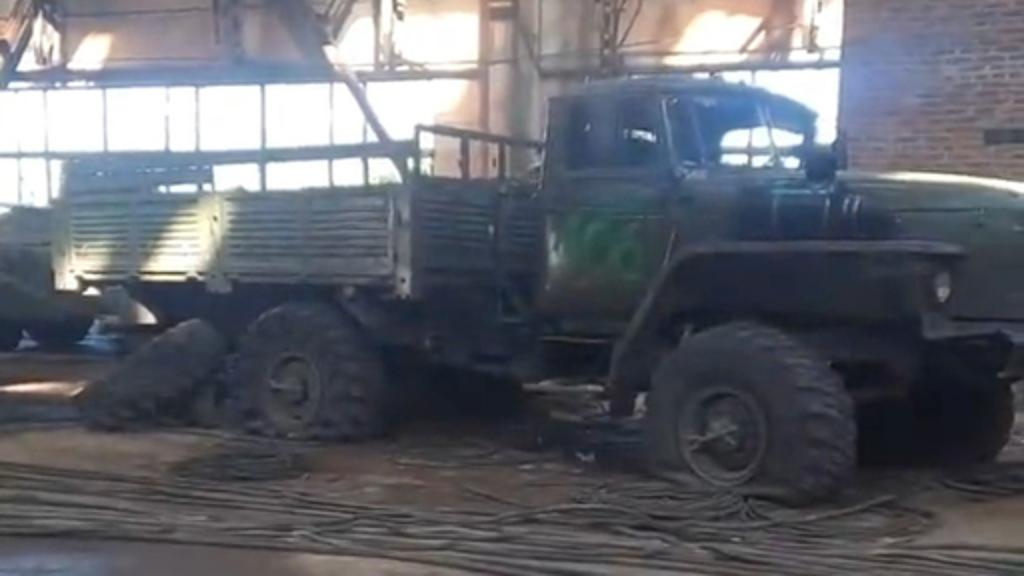TRUCK: (54, 60, 1022, 514)
